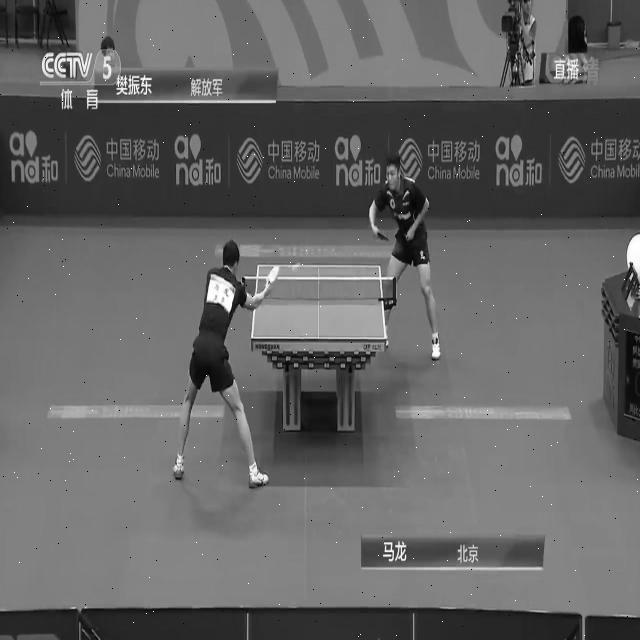ping-pong-ball: (290, 260, 298, 272)
